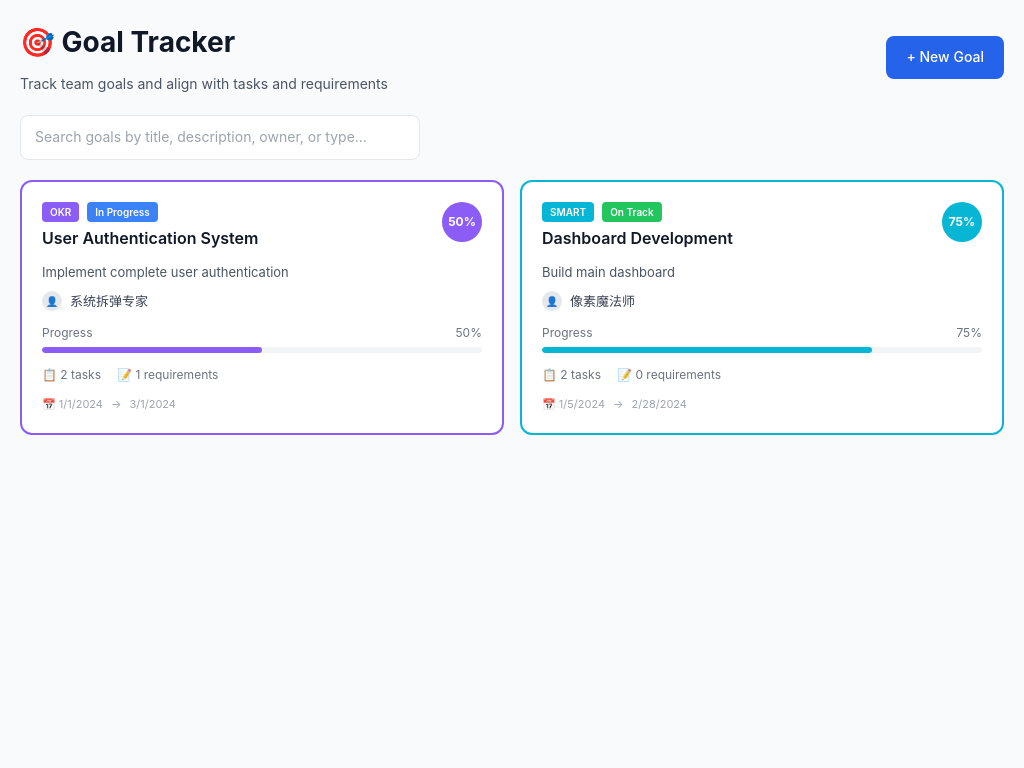
Test: GoalTracker › should open create modal when New Goal button is clicked
The image size is (1024, 768).
Click the button "+ New Goal" at (945, 58), box [886,36,1004,79]
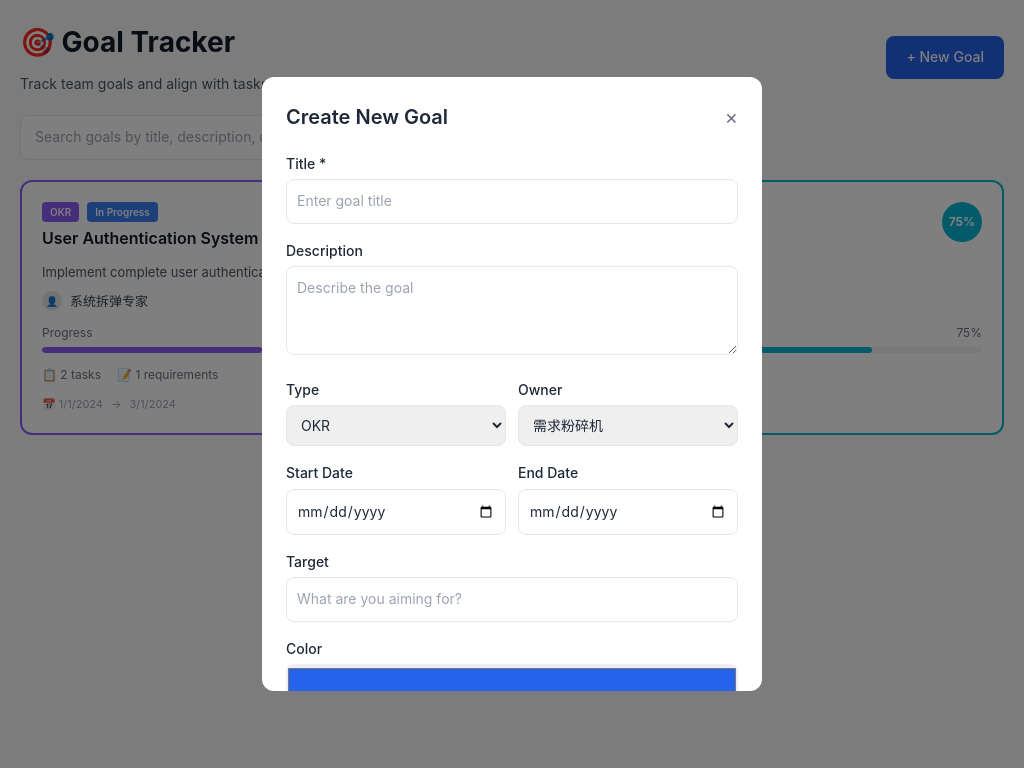
Check: the dialog is shown
